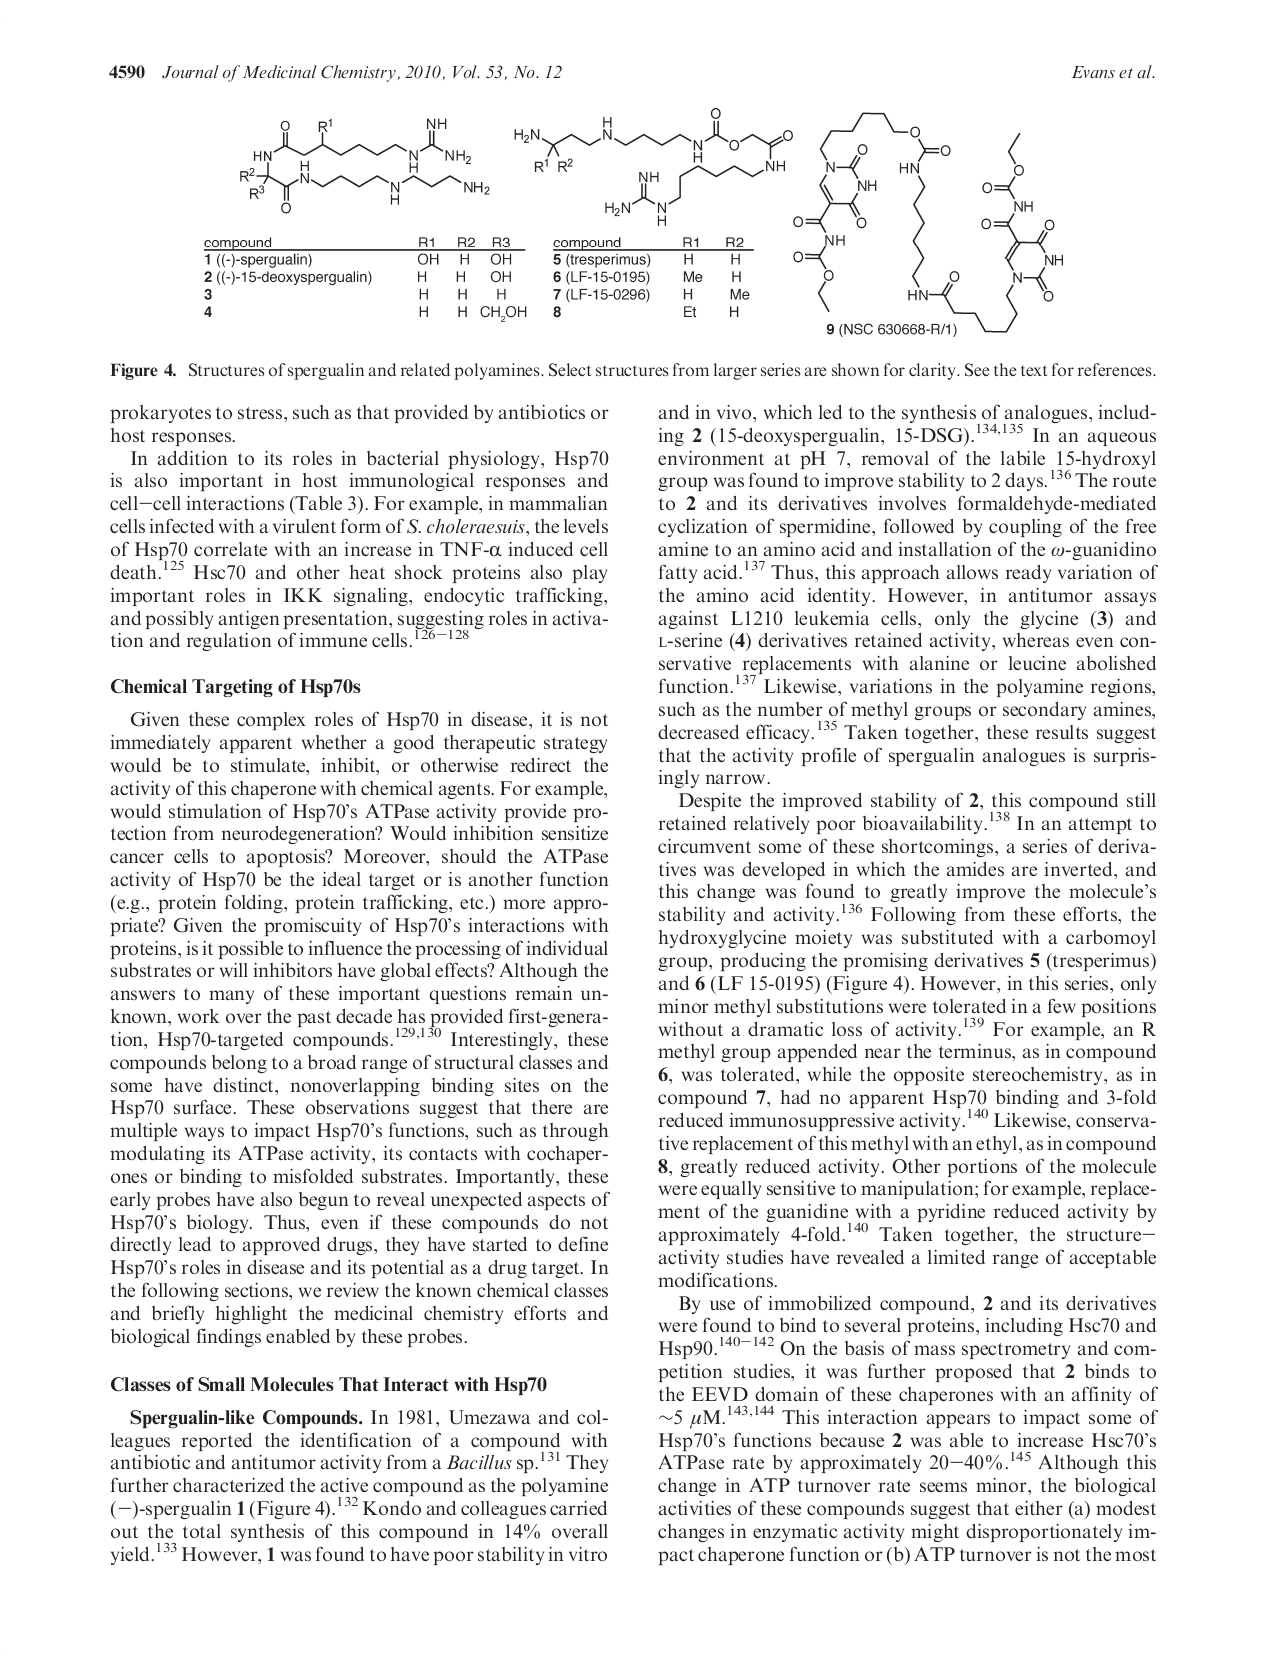exist_molecular: (793, 110, 1071, 339), (509, 104, 797, 230), (230, 114, 500, 215)
